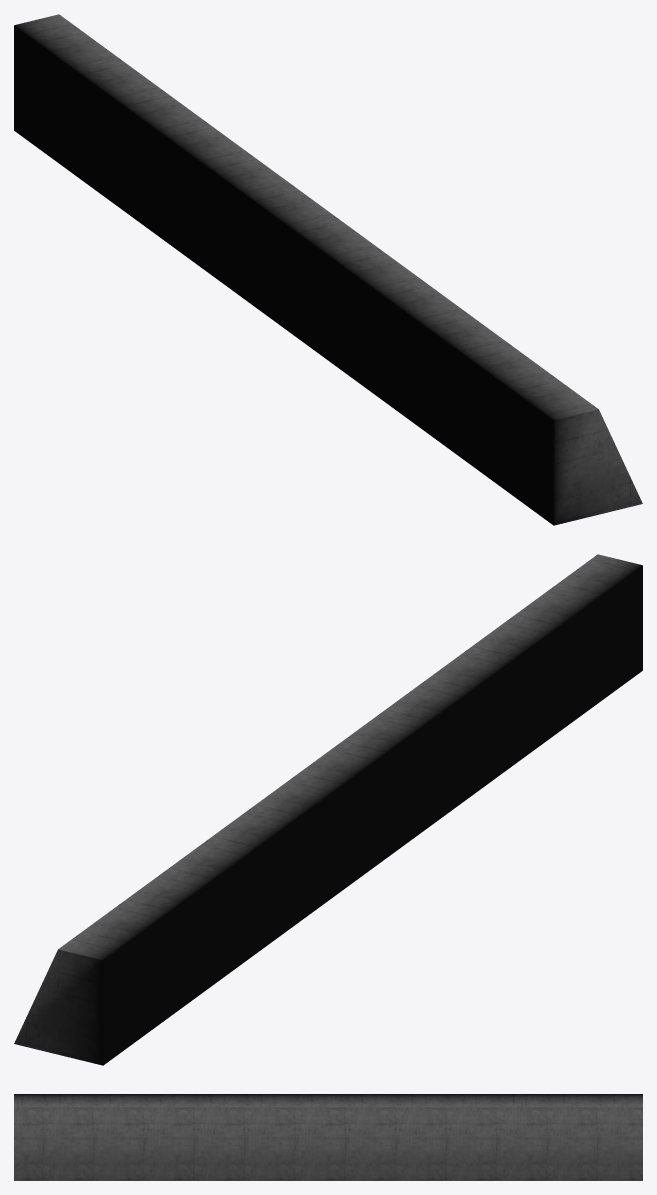
3 renders of one model, top to bottom at view 1: azimuth 30°, elevation 25°; view 2: azimuth 150°, elevation 25°; view 3: azimuth 270°, elevation 25°, orthographic. The views are drawn at different scales.
Visible parts, largest first — view 1: obj5; view 2: obj5; view 3: obj5.
Boxes of the visible parts, x1,y1,x2,y2 form: obj5: (14,14,642,525); obj5: (14,554,642,1065); obj5: (14,1094,642,1180).
Bounding box in the file's own units: 9.92 × 11.19 × 104.
Materials: 1 (1 with a texture image).
